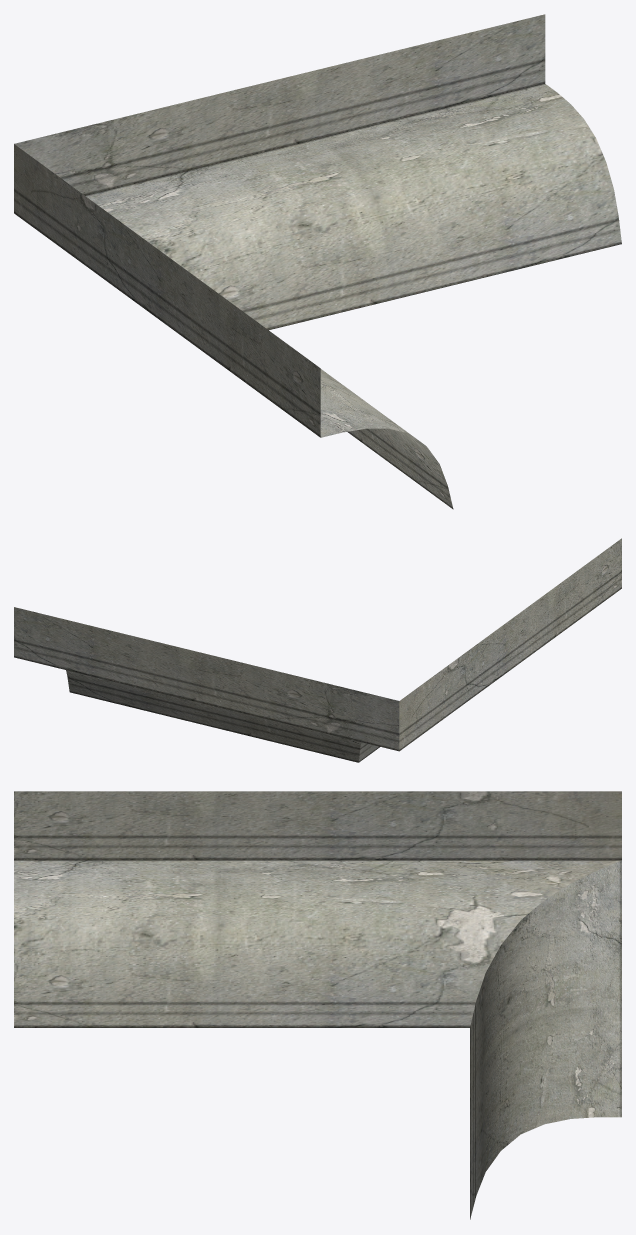
The model's file is urban_damaged_curved_corner_ceiling.dae.
3 views of the same model, one above another, from view 1: azimuth 30°, elevation 25°; view 2: azimuth 150°, elevation 25°; view 3: azimuth 270°, elevation 25° (orthographic). The views are drawn at different scales.
Visible parts, largest first — view 1: polySurface818; view 2: polySurface818; view 3: polySurface818.
Part boxes in pixels (x1,y1,x2,y2): polySurface818: [14, 14, 621, 509]; polySurface818: [14, 538, 621, 762]; polySurface818: [14, 791, 621, 1219].
Size of the model in its own units: 4 by 1.25 by 4.
